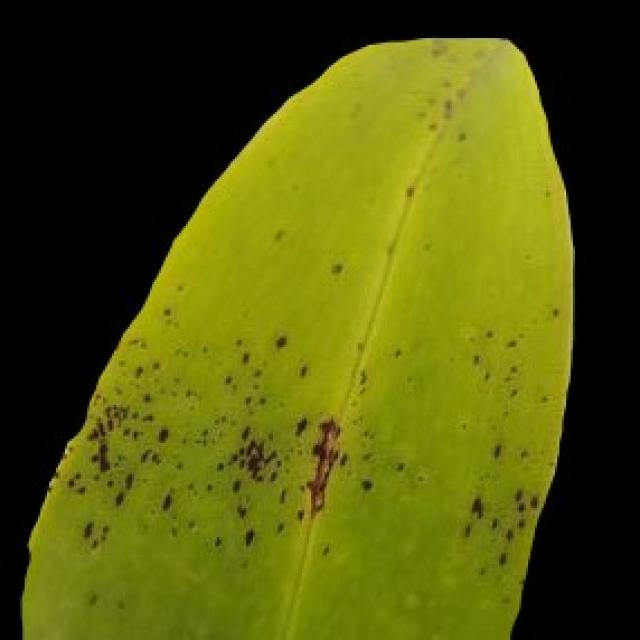mite: (60, 318, 546, 571), (65, 331, 313, 555), (459, 483, 542, 573), (78, 517, 94, 539), (468, 495, 483, 517), (154, 425, 170, 443), (490, 439, 503, 459), (242, 526, 255, 546), (159, 490, 172, 510), (495, 548, 508, 566), (210, 533, 224, 548), (358, 477, 374, 490)
spots: (18, 34, 577, 638)
